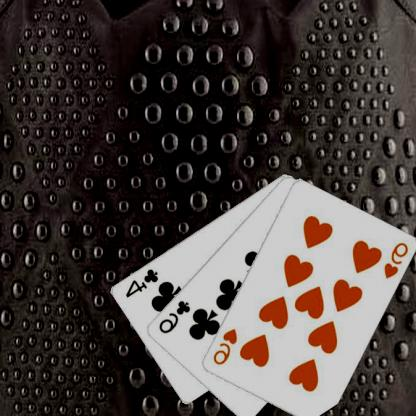4C: (124, 266, 161, 299)
9C: (158, 298, 194, 335)
9H: (212, 326, 240, 367), (383, 240, 411, 280)
